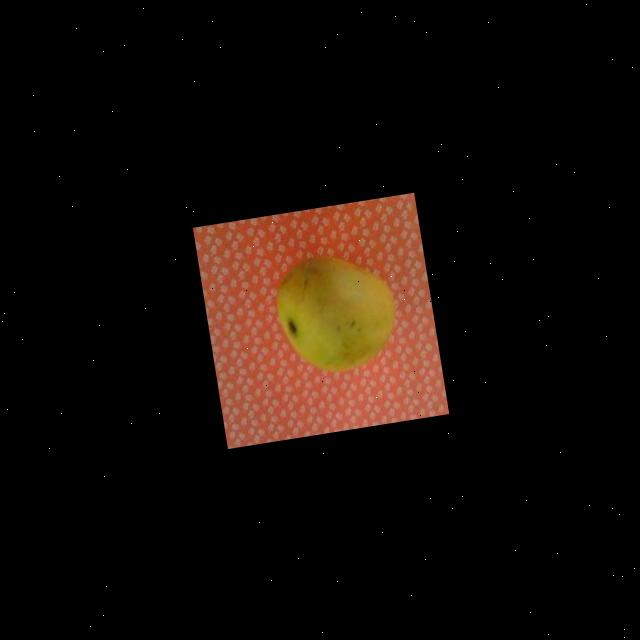Mango: (268, 245, 404, 381)
